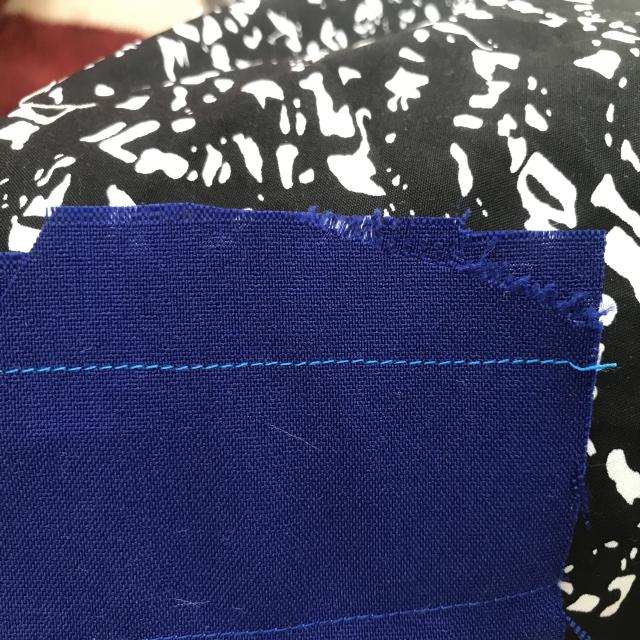good: (343, 345, 553, 384), (23, 354, 161, 386), (176, 356, 318, 382)
